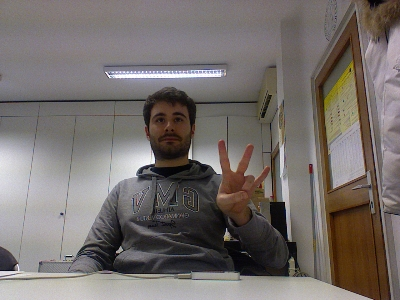观音: (214, 135, 272, 217)
